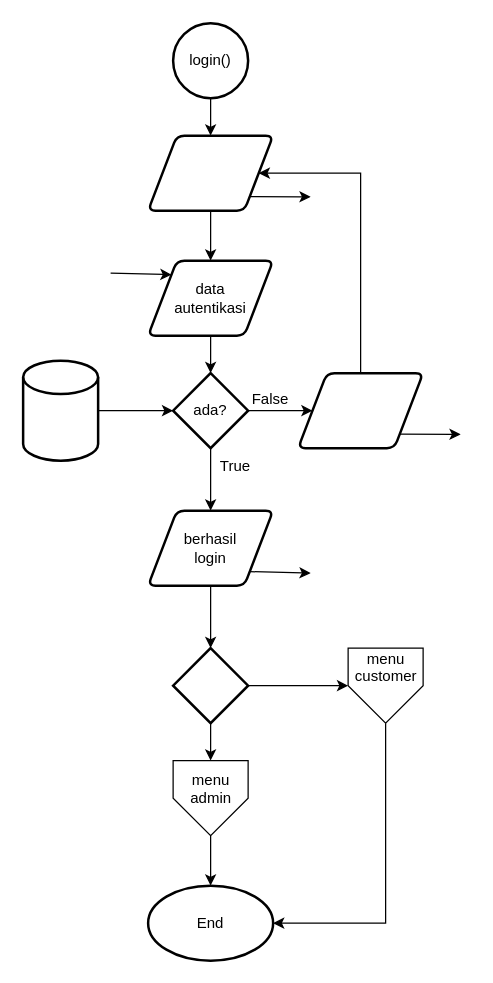
Some shapes in this 493 by 983 pixel diagram are drawn without their labels. The box of each missing label's shape, as (x1, y1, x2, y2) in pixels:
admin?: (171, 646, 249, 724)
data user: (21, 359, 99, 461)
meminta data autentikasi: (146, 134, 274, 211)
user tidak ada: (296, 371, 424, 449)
